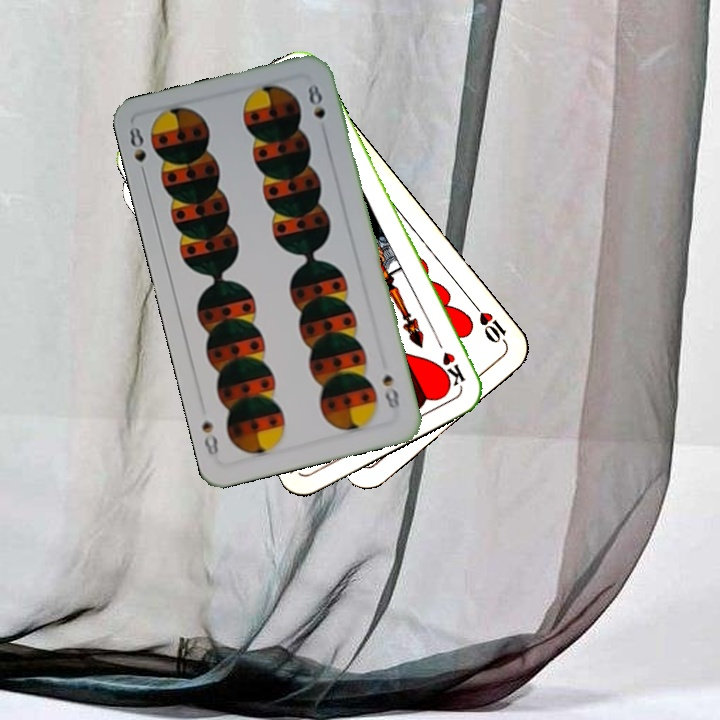H10: (469, 299, 511, 349)
HK: (430, 332, 468, 390)
S8: (125, 122, 149, 181), (378, 371, 402, 412)
